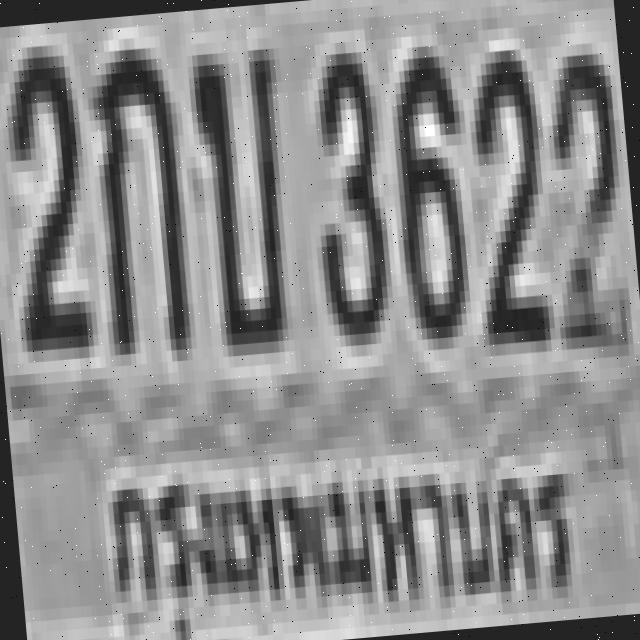10GorGai: (82, 35, 186, 344)
2: (535, 42, 628, 350), (0, 38, 91, 346), (458, 43, 550, 340)
3: (298, 40, 391, 337)
35BorBaiMai: (185, 38, 294, 346)
6: (383, 33, 470, 329)
Bangkok: (83, 409, 597, 640)
